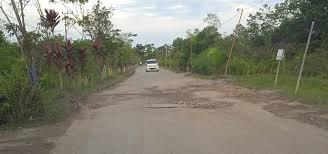Pothole: (208, 74, 328, 134), (82, 86, 233, 114), (0, 121, 101, 150)
